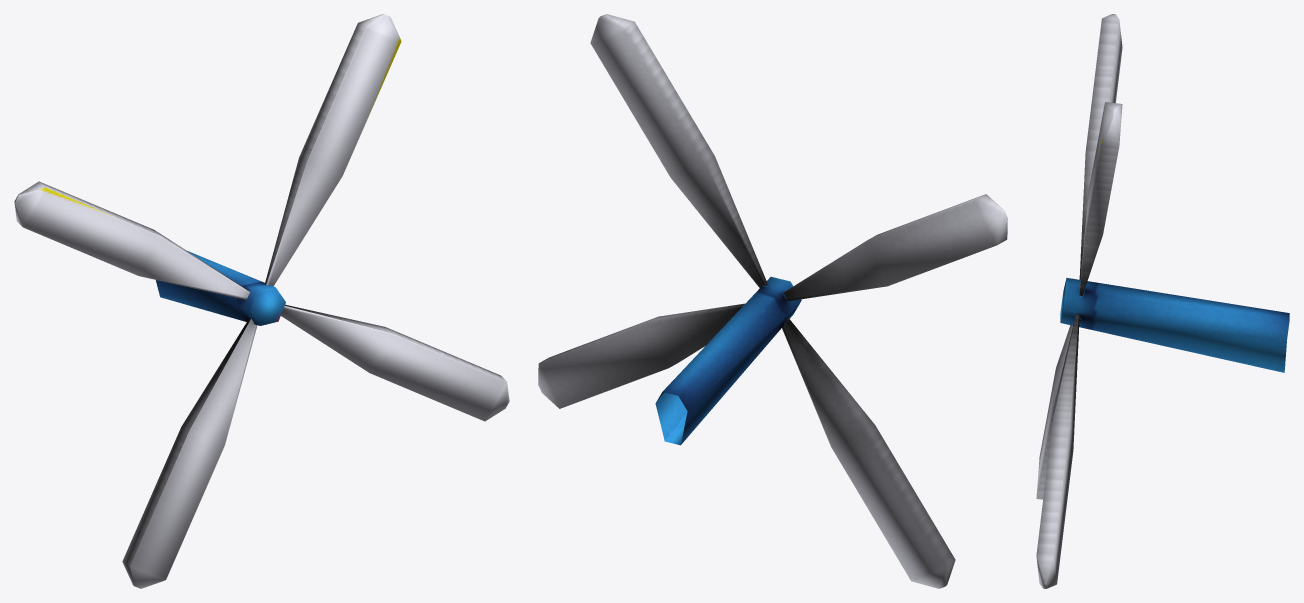
Rendered from plane5_blades.obj.
The picture shows the model from 3 angles, left to right: view 1: azimuth 30°, elevation 25°; view 2: azimuth 150°, elevation 25°; view 3: azimuth 270°, elevation 25°; orthographic projection. The views are drawn at different scales.
Visible parts, largest first — view 1: Catoon_B26_fan2; view 2: Catoon_B26_fan2; view 3: Catoon_B26_fan2.
Boxes of the visible parts, box(x1,y1,x2,y2) form: Catoon_B26_fan2: box(14, 14, 509, 588); Catoon_B26_fan2: box(538, 14, 1007, 588); Catoon_B26_fan2: box(1036, 14, 1289, 588).
Size of the model in its own units: 16.3 by 16.3 by 7.03.
Materials: 1 (1 with a texture image).
